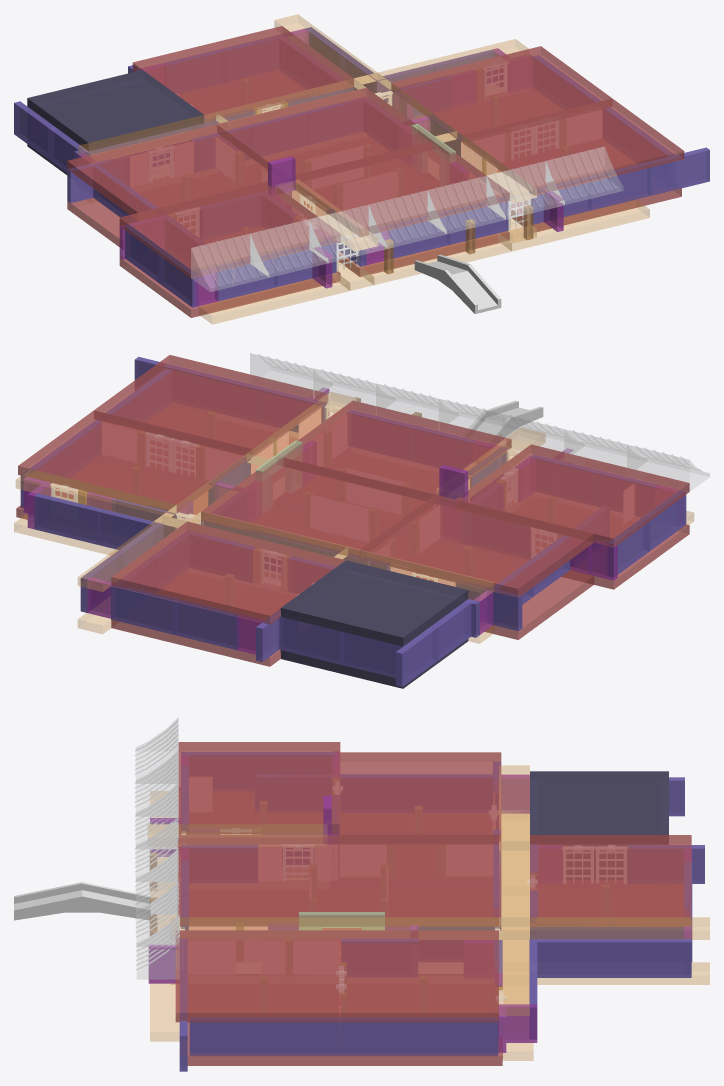
Rendered from EastZone.fbx.
3 views of the same model, one above another, from view 1: azimuth 30°, elevation 25°; view 2: azimuth 150°, elevation 25°; view 3: azimuth 270°, elevation 25° (orthographic). The views are drawn at different scales.
Visible parts, largest first — view 1: Module_015.013, Module_015.011, Module_015.010, Module_015.008, Module_015.000, Module_015.012, Module_015.009, Module_011.000, Module_024.001, Module_024.002, Module_024.006, Module_024.005 (+63 smaller); view 2: Module_015.008, Module_015.010, Module_015.012, Module_015.009, Module_015.013, Module_015.000, Module_015.011, Module_011.000, Module_015.001, Module_015.005, Module_020.013, Module_015.002 (+68 smaller); view 3: Module_015.013, Module_015.009, Module_015.012, Module_015.011, Module_015.000, Module_015.008, Module_015.010, Module_011.000, Module_015.006, Module_015.007, Module_015.004, Module_015.001 (+50 smaller).
Part boxes in pixels (left/top/right/bottom): Module_015.013: left=463, top=98, right=684, bottom=195; Module_015.011: left=292, top=140, right=509, bottom=236; Module_015.010: left=119, top=181, right=340, bottom=277; Module_015.008: left=67, top=124, right=267, bottom=220; Module_015.000: left=132, top=26, right=353, bottom=122; Module_015.012: left=391, top=46, right=612, bottom=142; Module_015.009: left=217, top=88, right=437, bottom=180; Module_011.000: left=27, top=70, right=204, bottom=151; Module_024.001: left=191, top=234, right=268, bottom=291; Module_024.002: left=250, top=219, right=328, bottom=277; Module_024.006: left=487, top=161, right=564, bottom=219; Module_024.005: left=428, top=176, right=505, bottom=233; Module_015.008: left=359, top=495, right=593, bottom=597; Module_015.010: left=455, top=444, right=689, bottom=547; Module_015.012: left=18, top=410, right=252, bottom=512; Module_015.009: left=201, top=456, right=435, bottom=558; Module_015.013: left=94, top=355, right=327, bottom=455; Module_015.000: left=111, top=521, right=345, bottom=624; Module_015.011: left=278, top=400, right=511, bottom=500; Module_011.000: left=280, top=560, right=468, bottom=646; Module_015.001: left=111, top=571, right=292, bottom=666; Module_015.005: left=406, top=539, right=593, bottom=639; Module_020.013: left=16, top=469, right=176, bottom=522; Module_015.002: left=279, top=447, right=438, bottom=529; Module_015.013: left=175, top=930, right=337, bottom=1022; Module_015.009: left=339, top=834, right=501, bottom=926; Module_015.012: left=337, top=930, right=498, bottom=1022; Module_015.011: left=177, top=834, right=339, bottom=926; Module_015.000: left=530, top=835, right=691, bottom=926; Module_015.008: left=339, top=752, right=501, bottom=843; Module_015.010: left=178, top=742, right=340, bottom=833; Module_011.000: left=530, top=771, right=668, bottom=843; Module_015.006: left=187, top=974, right=341, bottom=1065; Module_015.007: left=341, top=974, right=502, bottom=1065; Module_015.004: left=339, top=880, right=492, bottom=930; Module_015.001: left=538, top=880, right=683, bottom=916.
Size of the model in its own units: 9913 by 1300 by 10188.
